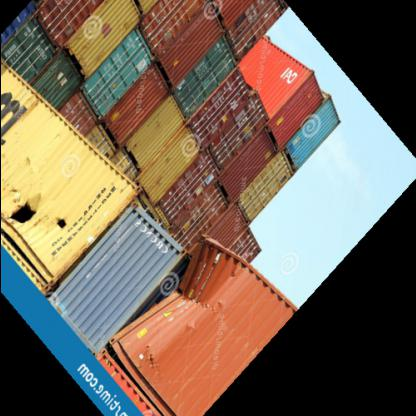Damage: (152, 244, 216, 309), (7, 182, 48, 254), (50, 208, 76, 234)
